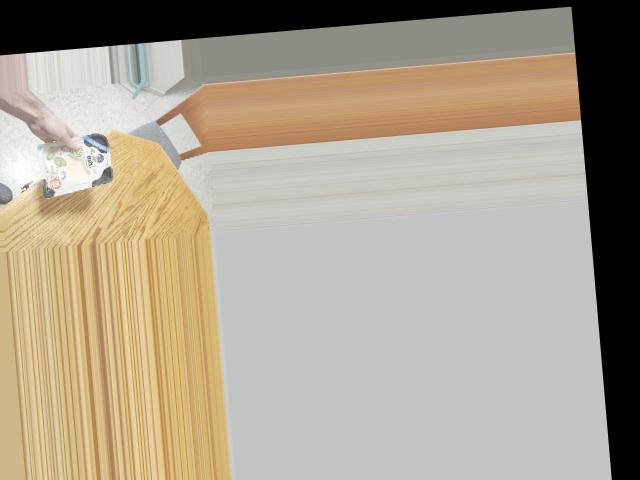cheese: (28, 128, 124, 198)
